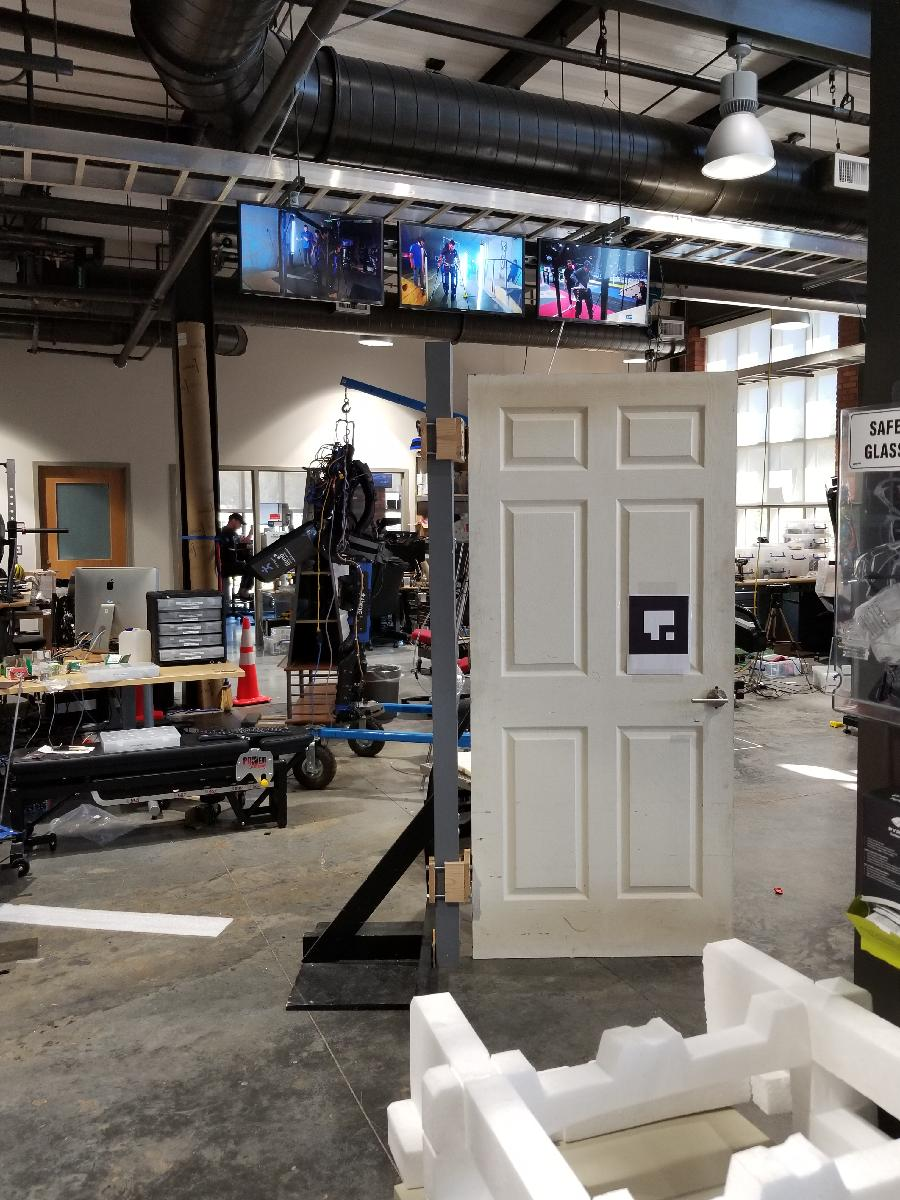door: (466, 370, 741, 960)
doorHandle: (690, 683, 734, 710)
